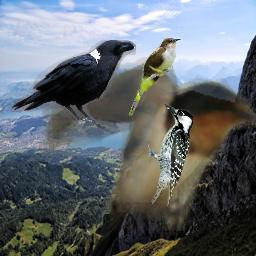Crow: (11, 40, 136, 130)
Cuckoo: (128, 37, 181, 116)
Swallow: (39, 57, 256, 231)
Woodpecker: (148, 103, 193, 207)
